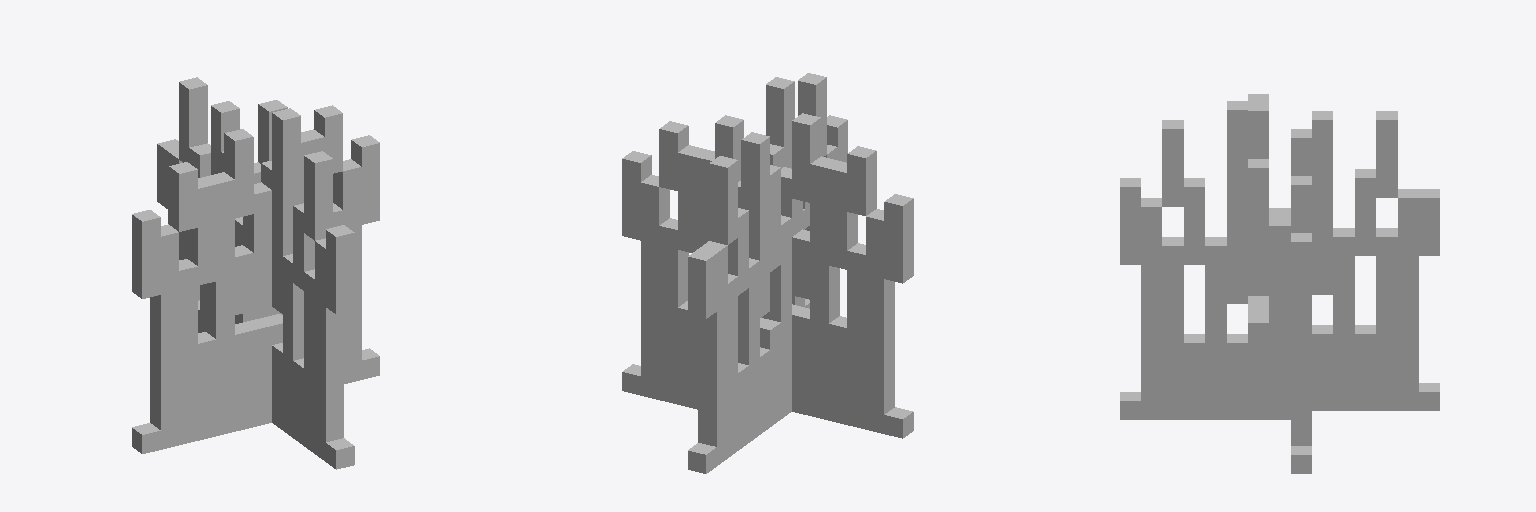
Rendered from seaweed.obj.
3 renders of one model, left to right at view 1: azimuth 30°, elevation 25°; view 2: azimuth 150°, elevation 25°; view 3: azimuth 270°, elevation 25°, orthographic.
Visible parts, largest first — view 1: object 1; view 2: object 1; view 3: object 1.
Part boxes in pixels (bbox=[...]): object 1: bbox=[132, 77, 379, 469]; object 1: bbox=[622, 73, 913, 473]; object 1: bbox=[1120, 94, 1439, 473].
Bounding box in the file's own units: 1.4 × 1.6 × 1.5.